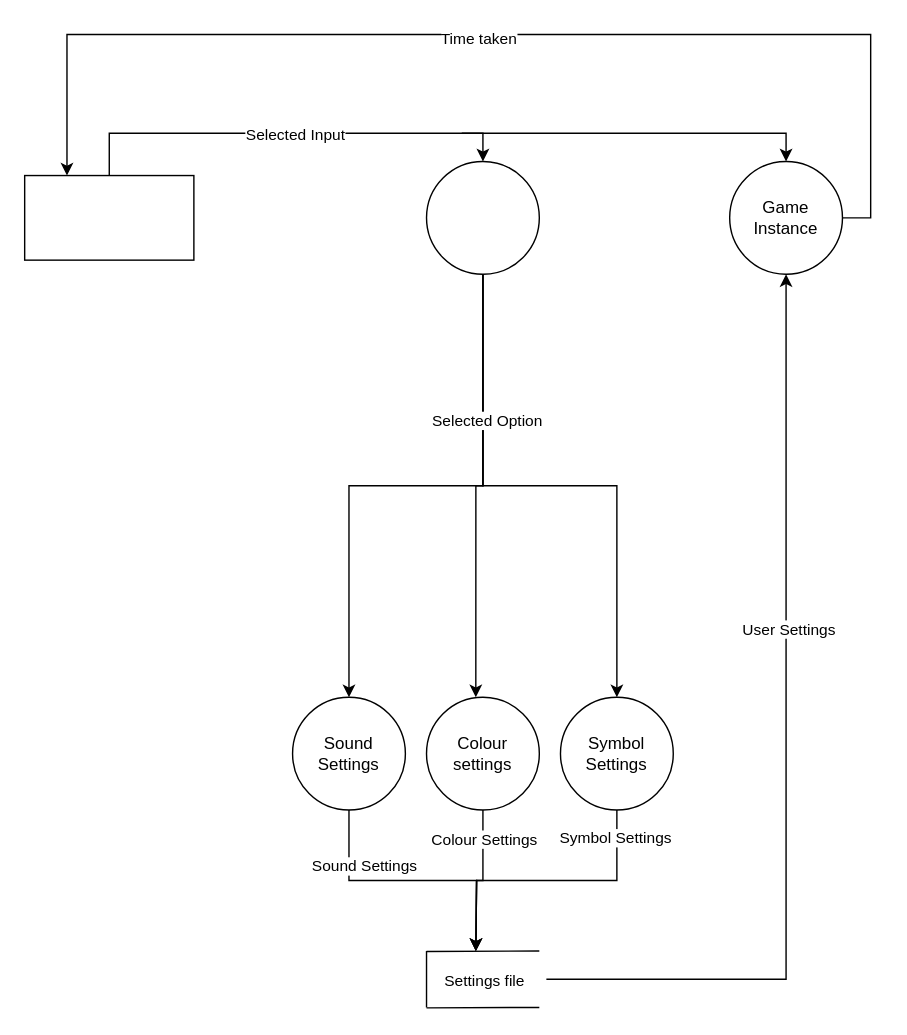
The diagram is 907 pixels wide and 1035 high, and some of its shapes have lost their labels. Each missing label, with the box of its shape:
Settings Menu: (425, 160, 539, 274)
User Main Menu option: (23, 174, 194, 260)
